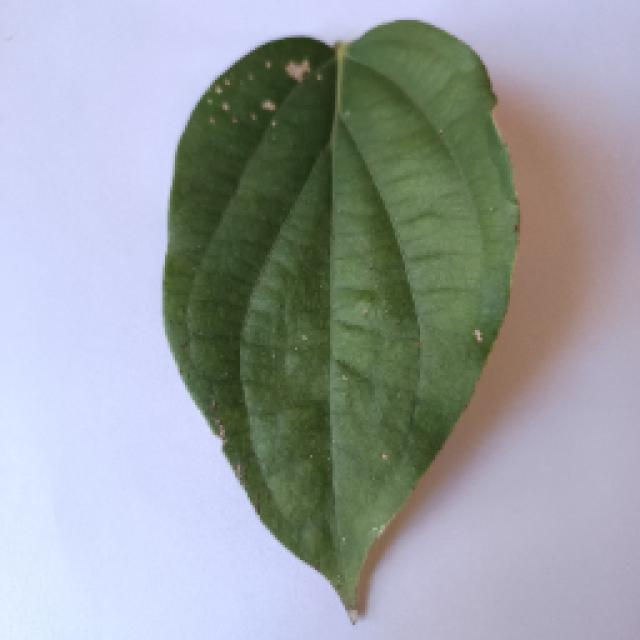pollu-disease: (160, 20, 512, 620)
